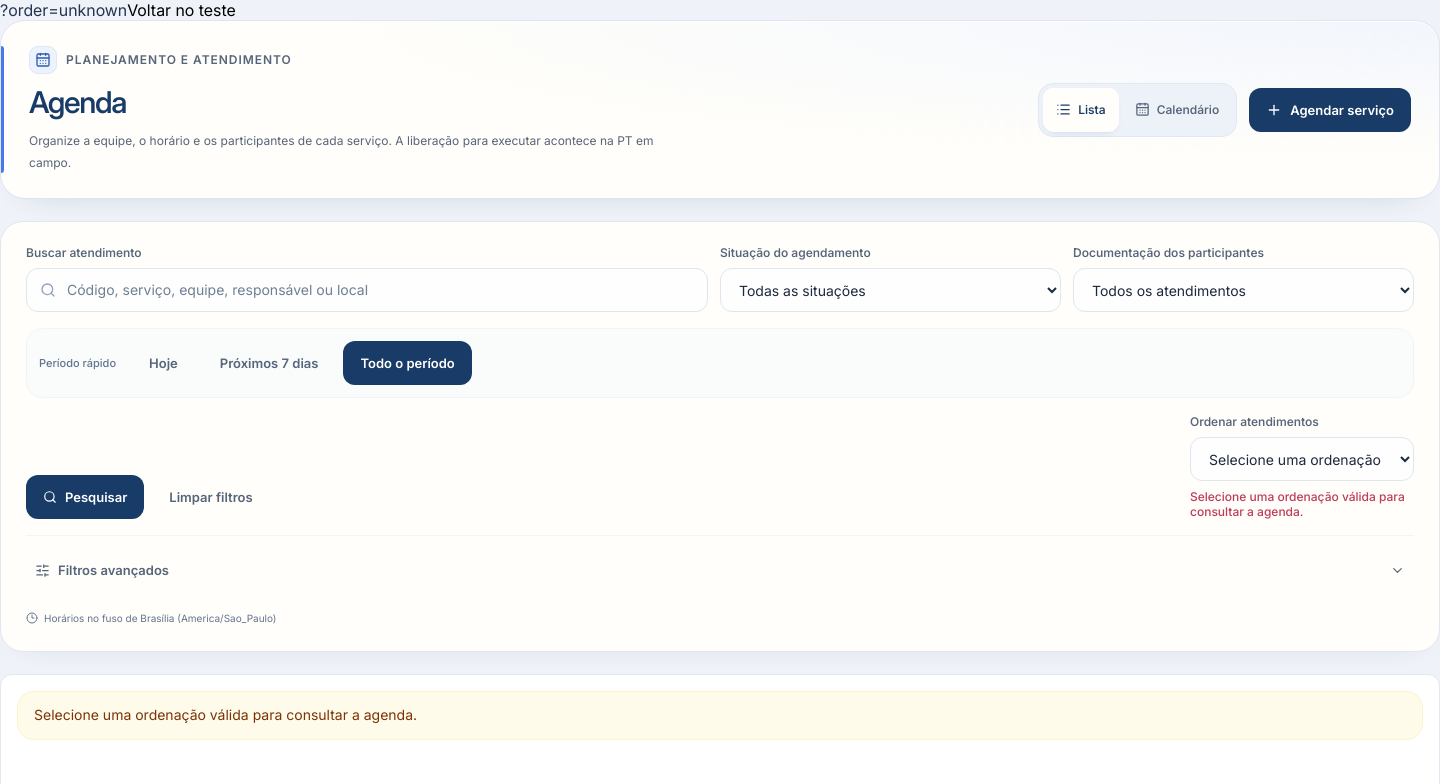
Test case: AgendaPage — segurança e continuidade dos filtros na URL › permite limpar uma ordenação inválida sem conservar o erro
Click the button "Limpar filtros".
click(211, 497)  # box x1=152 y1=475 x2=270 y2=519
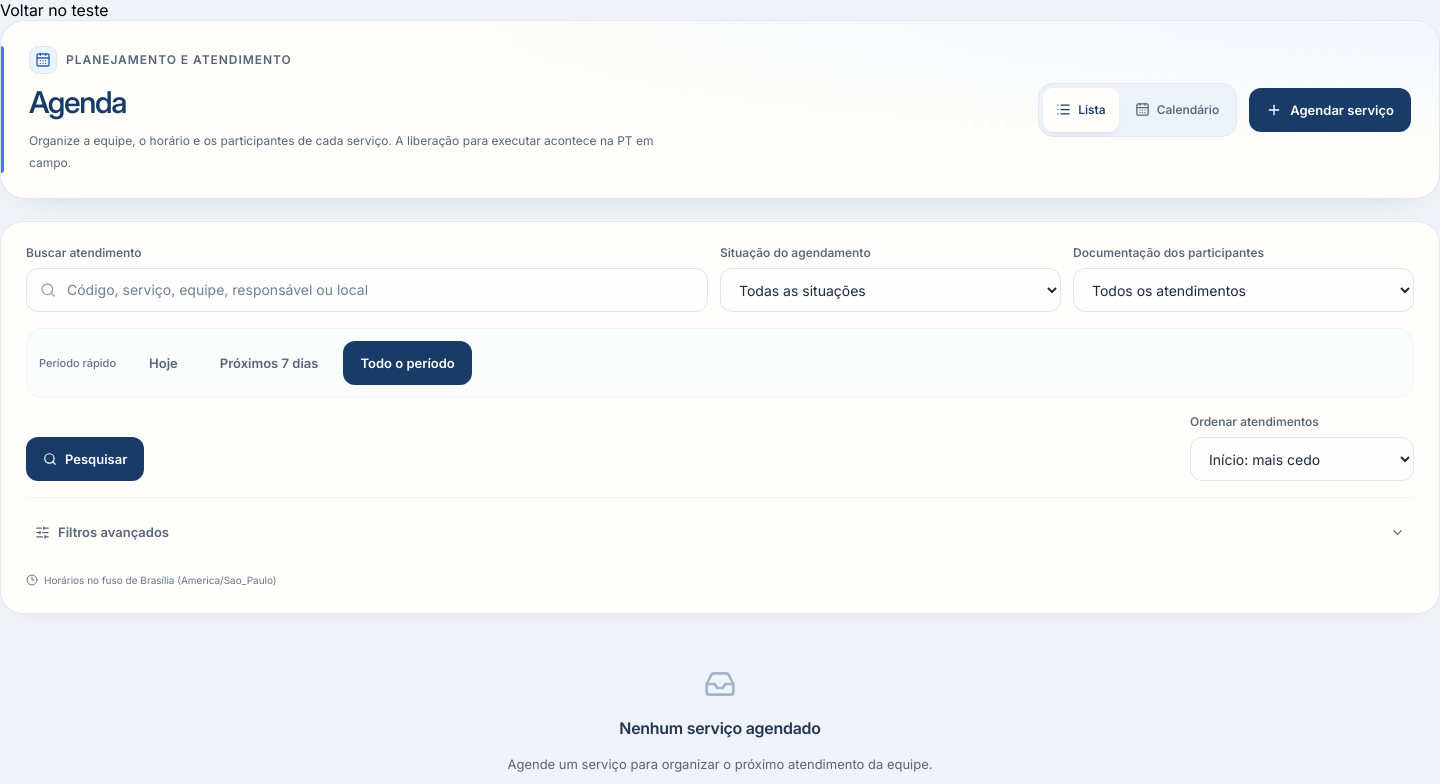
Expected: the dropdown labelled "Ordenar atendimentos" shows "Início: mais cedo", x1=1190 y1=437 x2=1414 y2=481
